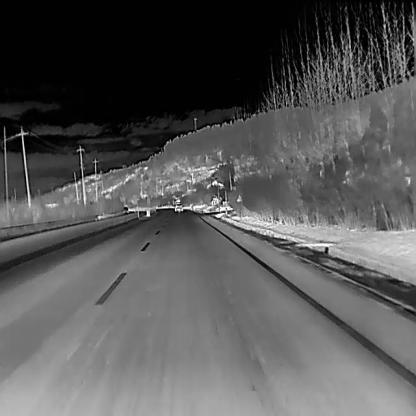car: (174, 201, 184, 211), (121, 204, 130, 214)
